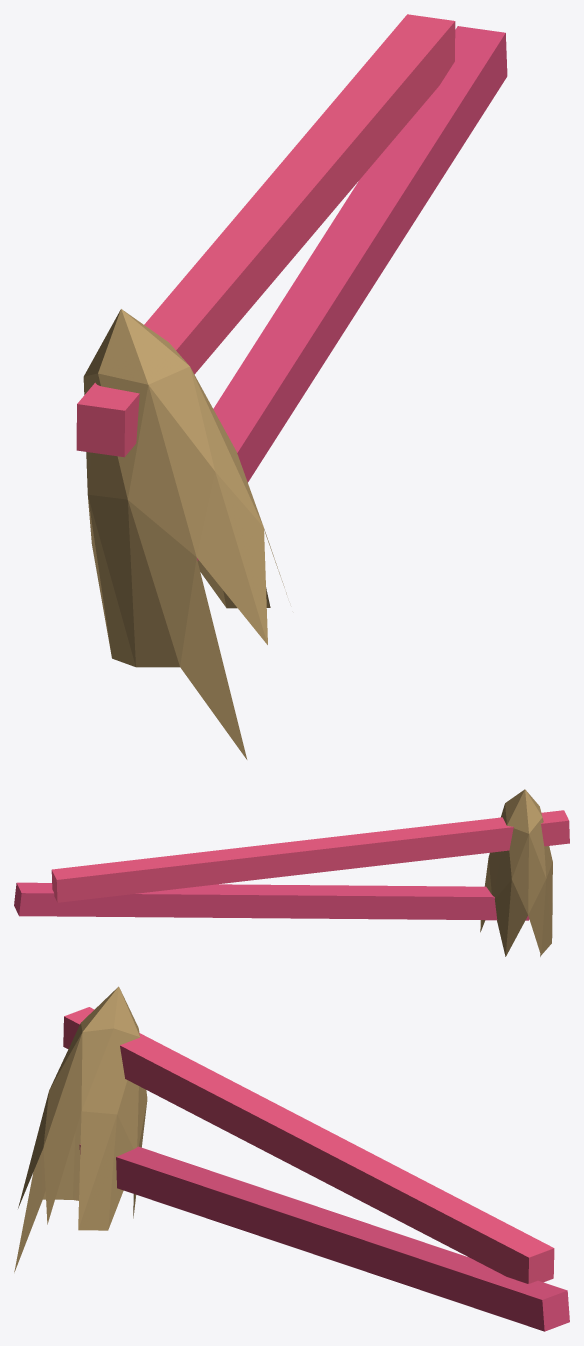
The model's file is Palillos.fbx.
The picture shows the model from 3 angles, top to bottom: view 1: azimuth 30°, elevation 25°; view 2: azimuth 150°, elevation 25°; view 3: azimuth 270°, elevation 25°; orthographic projection. The views are drawn at different scales.
Visible parts, largest first — view 1: Palillos; view 2: Palillos; view 3: Palillos.
Boxes of the visible parts, bbox=[...] form: Palillos: bbox=[76, 14, 507, 759]; Palillos: bbox=[14, 789, 569, 956]; Palillos: bbox=[14, 986, 569, 1331].
Size of the model in its own units: 6709 by 3377 by 6254.
